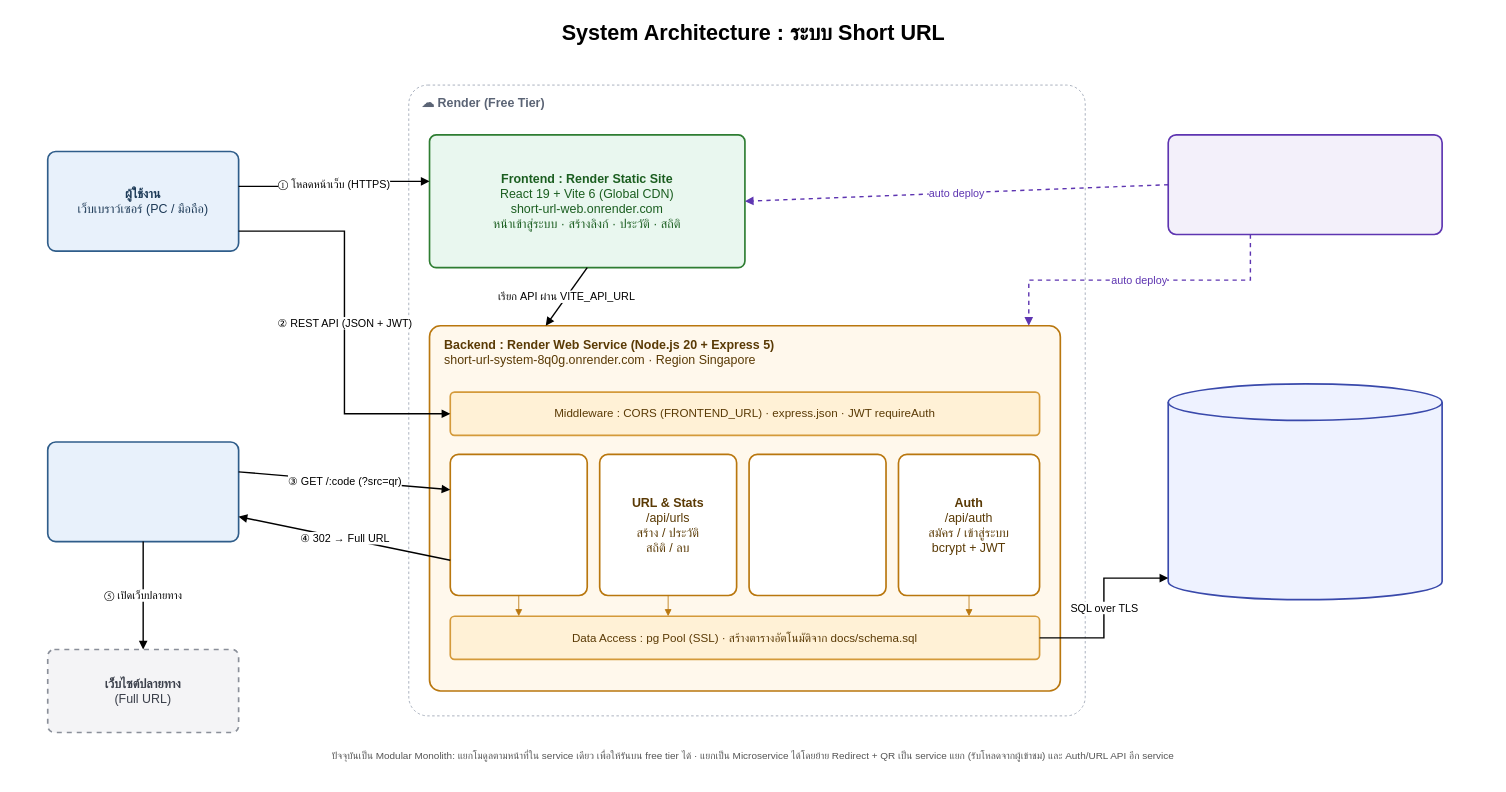
Image size: 1506x792. Some labels were removed from this diagram. The centre of each missing label's shape, as x and y in pixels:
GitHub Repository push branch main → Render auto deploy: [1305,184]
Neon PostgreSQL 16 Serverless · Singapore users · urls · clicks: [1305,491]
QR Code /api/qr/:code สร้างรูป PNG (qrcode): [817,524]
Redirect /:code บันทึกการคลิก แล้วส่ง 302: [518,524]
ผู้เข้าชมลิงก์ คลิกลิงก์ / สแกน QR ด้วยมือถือ: [142,491]
